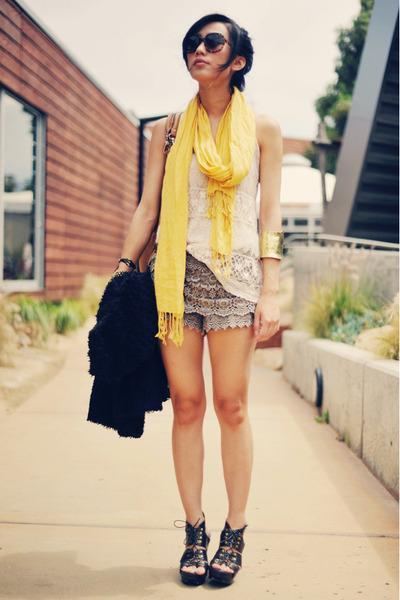jacket: (87, 258, 169, 437)
shirt: (186, 169, 271, 299)
shoe: (179, 521, 246, 587)
shorts: (183, 252, 260, 341)
sunglass: (183, 36, 215, 66)
